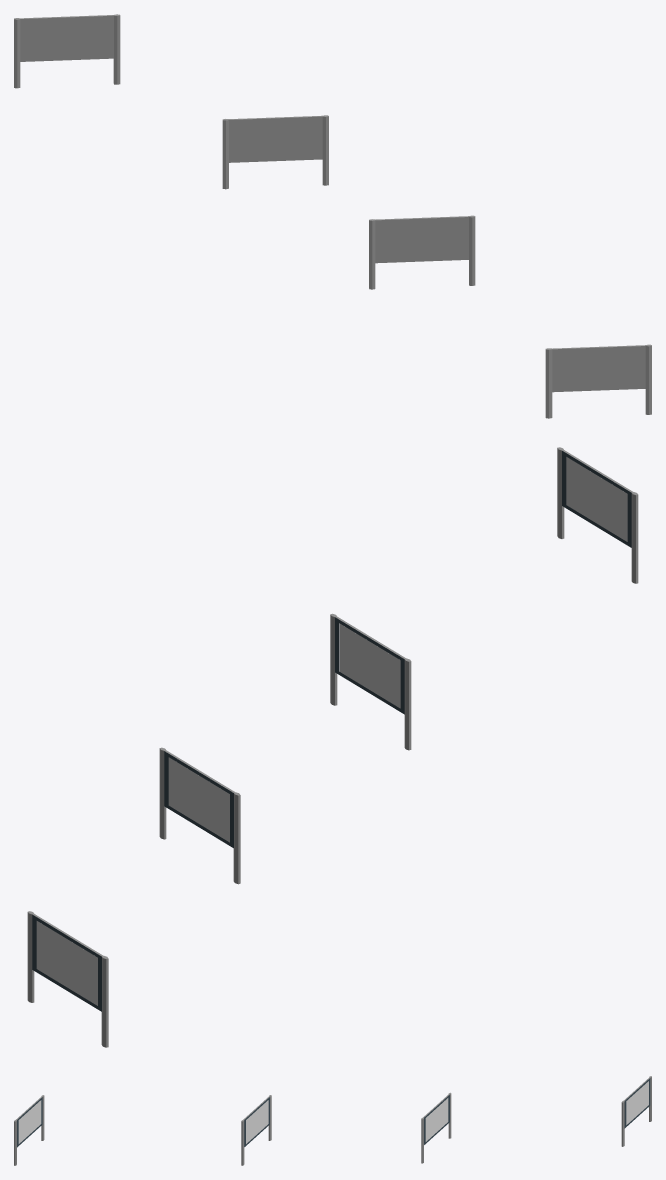
Rendered from vallas_objecto.glb.
The picture shows the model from 3 angles, top to bottom: view 1: azimuth 30°, elevation 25°; view 2: azimuth 150°, elevation 25°; view 3: azimuth 270°, elevation 25°; orthographic projection. The views are drawn at different scales.
Visible parts, largest first — view 1: group205358114; view 2: group205358114; view 3: group205358114.
Boxes of the visible parts, box(x1,y1,x2,y2) form: group205358114: box(14, 14, 651, 418); group205358114: box(27, 447, 638, 1047); group205358114: box(14, 1076, 651, 1165).
Size of the model in its own units: 16.19 by 7.36 by 95.88.
